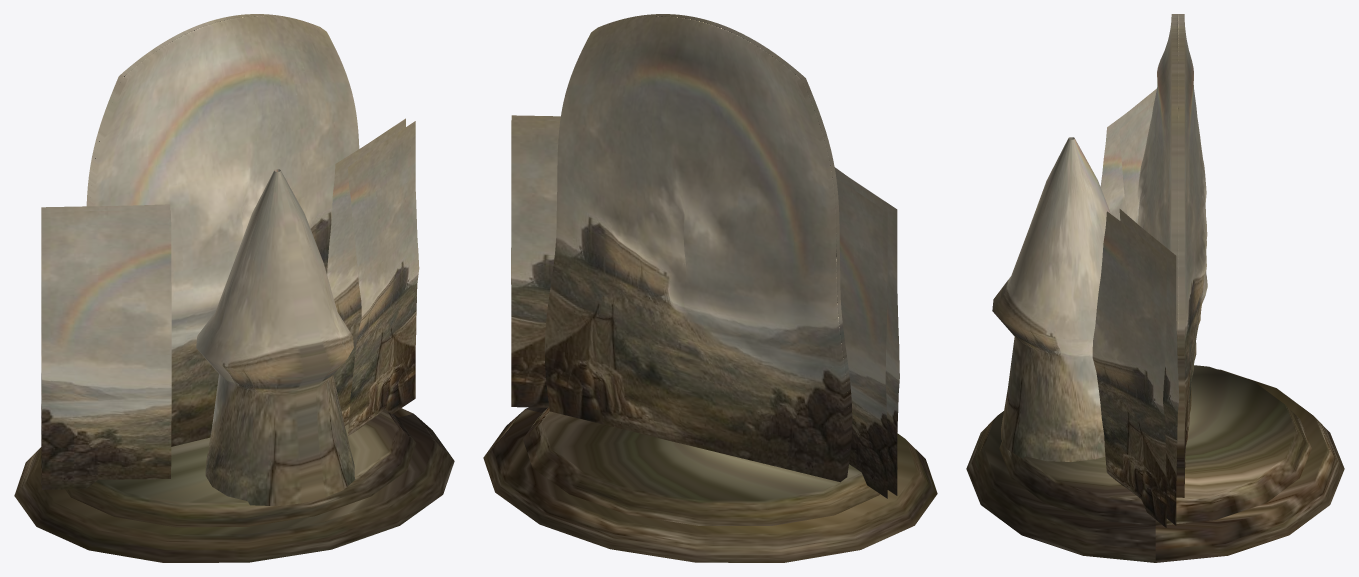
File: noah-stone-altar.glb
The picture shows the model from 3 angles, left to right: view 1: azimuth 30°, elevation 25°; view 2: azimuth 150°, elevation 25°; view 3: azimuth 270°, elevation 25°; orthographic projection. The views are drawn at different scales.
Parts seen in each view (by area): view 1: PaintingSculptureMonument; view 2: PaintingSculptureMonument; view 3: PaintingSculptureMonument.
Part boxes in pixels (x1,y1,x2,y2): PaintingSculptureMonument: [14, 14, 454, 562]; PaintingSculptureMonument: [483, 14, 937, 562]; PaintingSculptureMonument: [966, 14, 1344, 562].
Size of the model in its own units: 2.76 by 2.99 by 2.35.
1 material, 1 textured.
